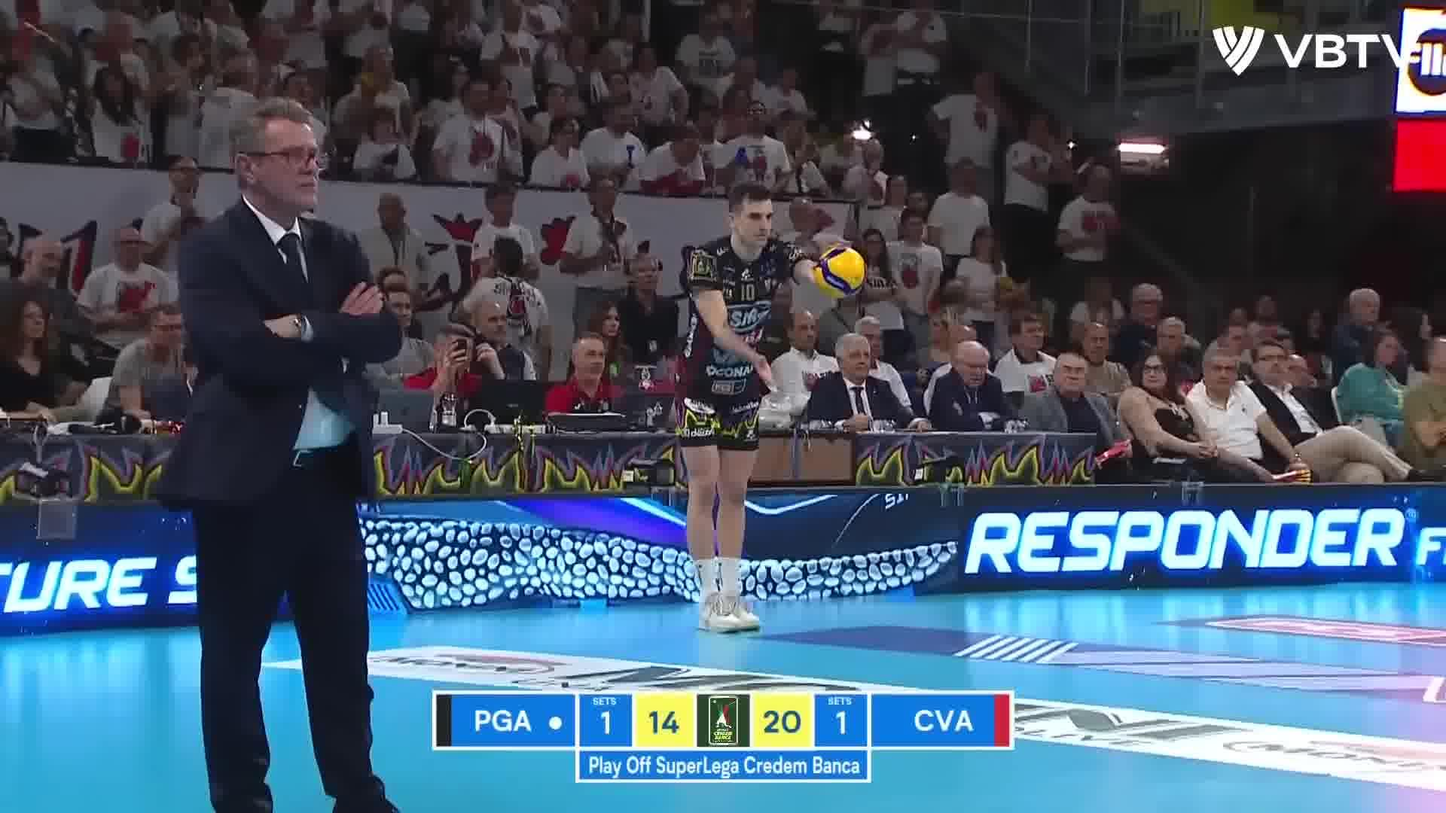balls: (805, 234, 877, 306)
